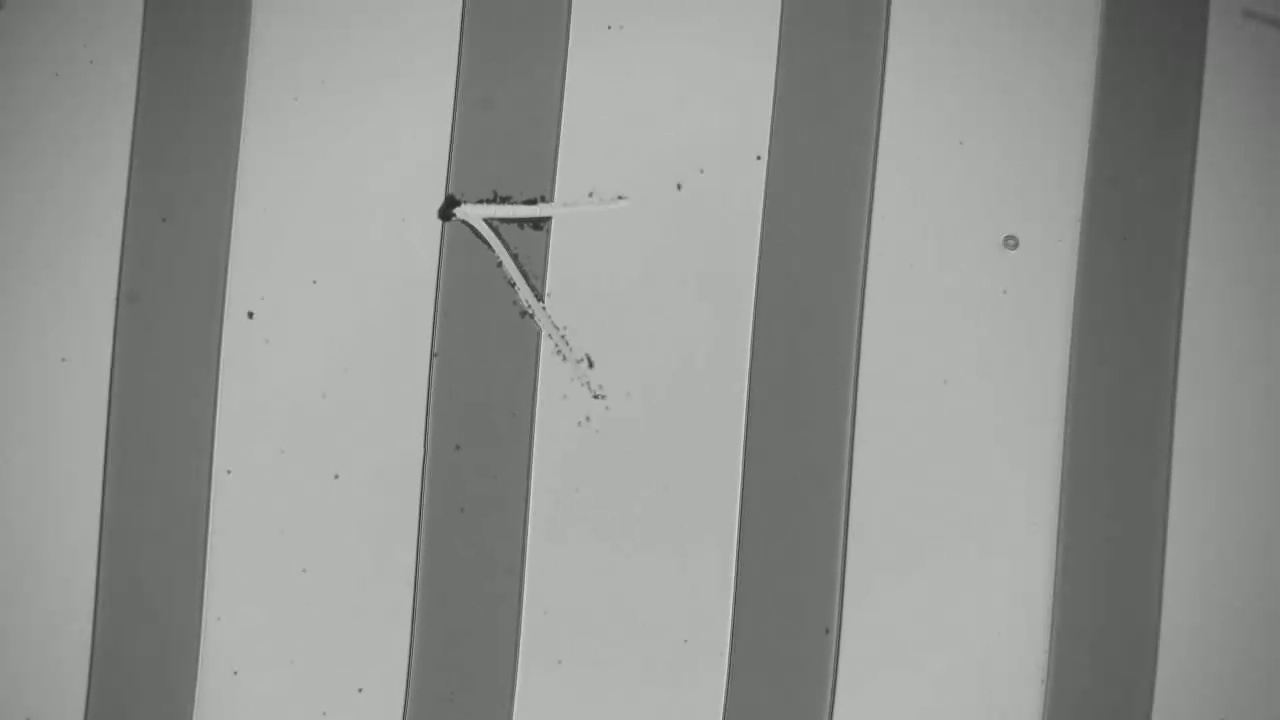Short_circuit: (415, 170, 582, 236)
